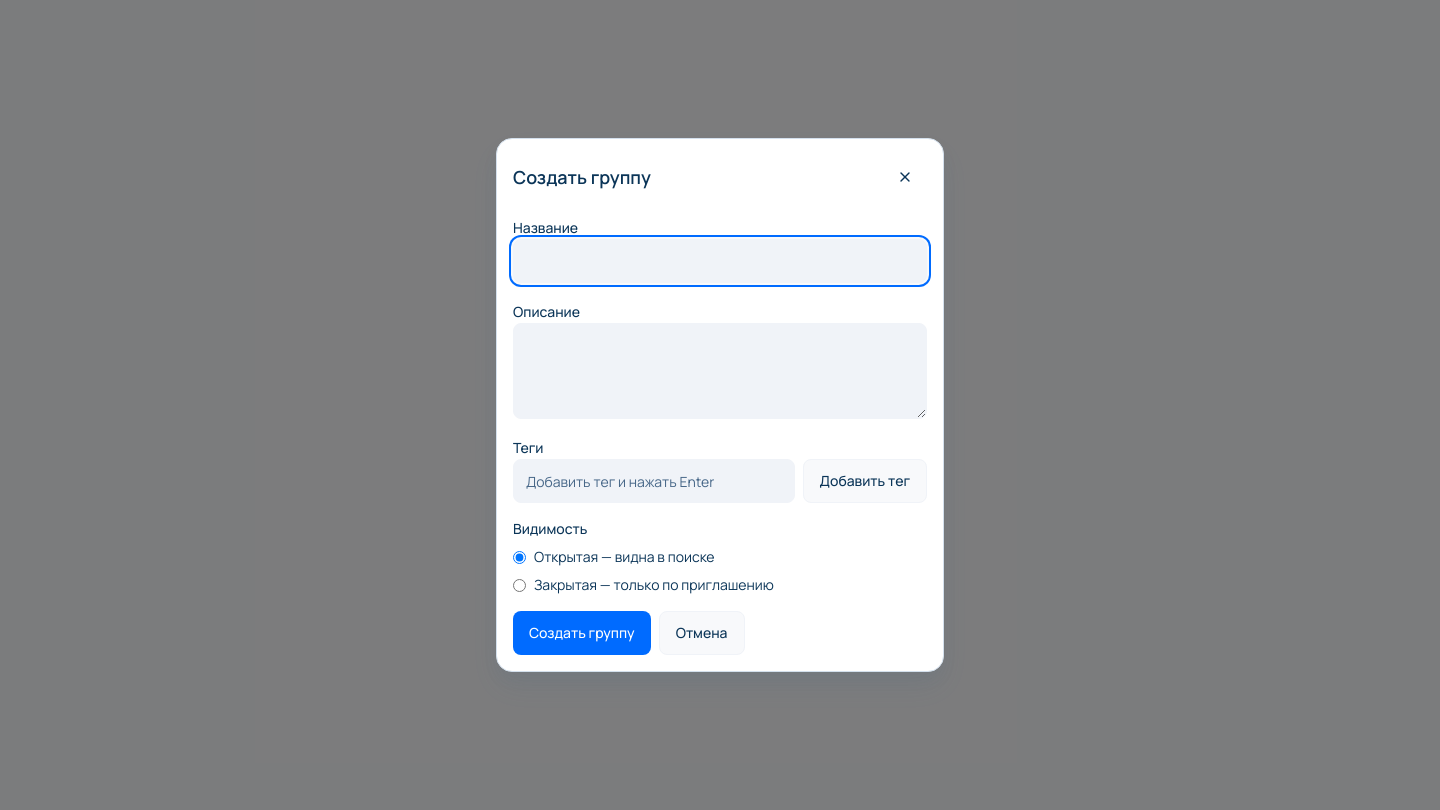
Scenario: CreateGroupModal › shows a duplicate-name error without navigating
The width and height of the screenshot is (1440, 810).
Type "Классика" into the field labelled "Название". click: [720, 261]
box: [513,239,927,283]
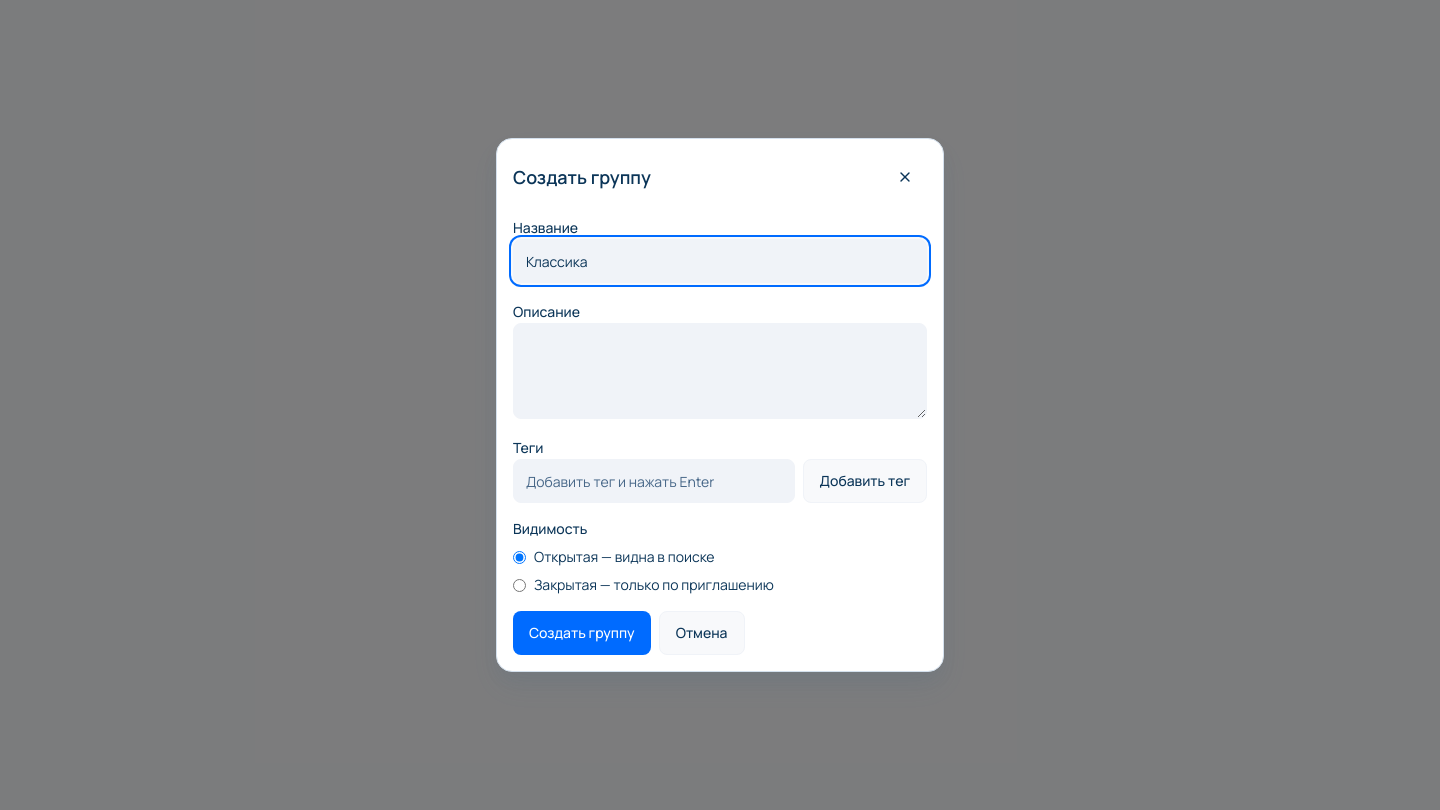
Click the button "Создать группу". click: [582, 633]
box: [513,611,651,655]
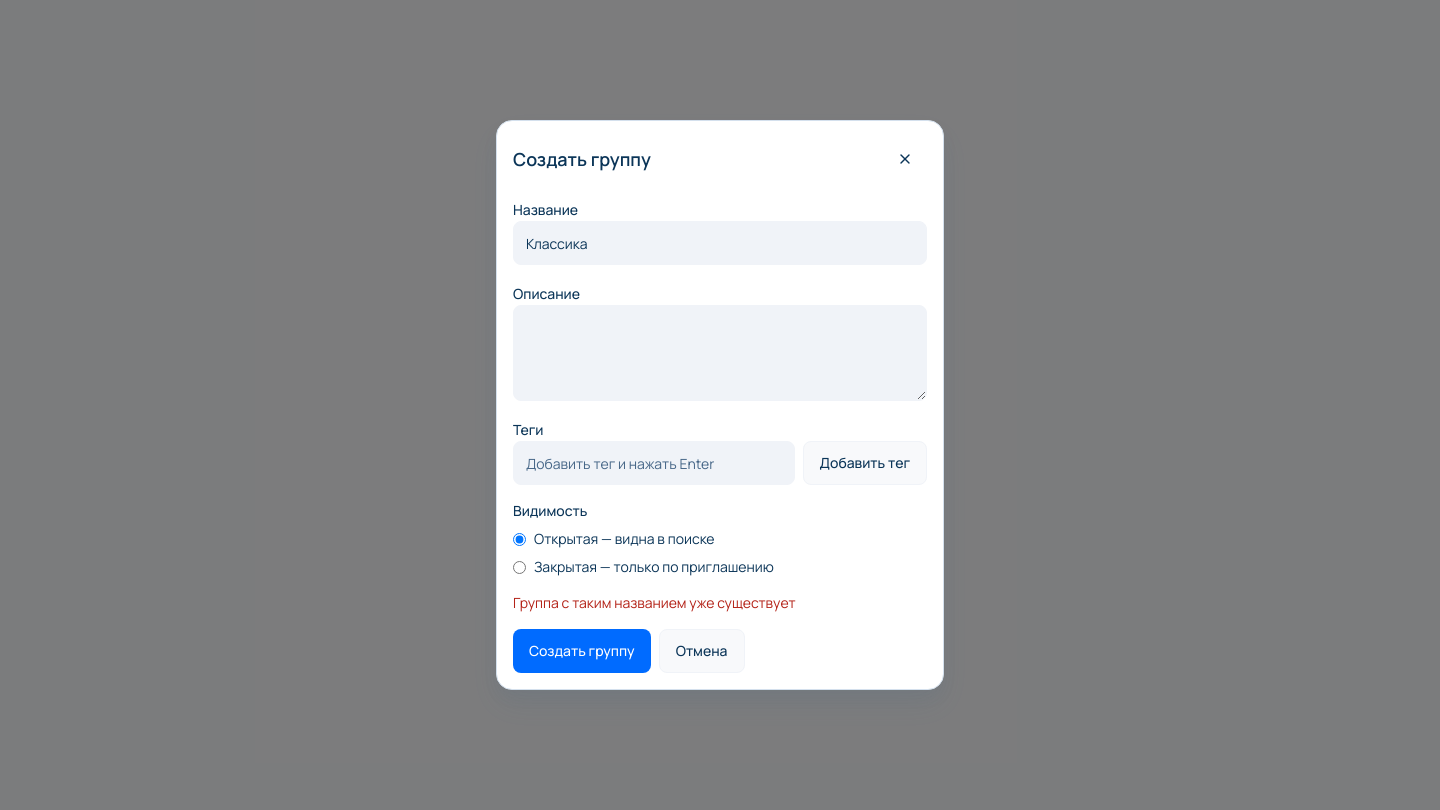
Expected: the message reads "Группа с таким названием уже существует", [513,593,796,612]
